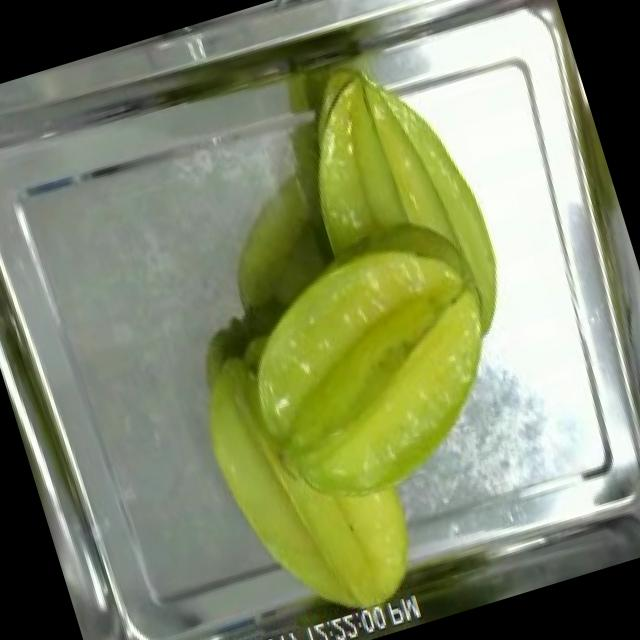fruit: (206, 203, 558, 542), (164, 283, 442, 640), (260, 29, 526, 366), (429, 0, 558, 35)
